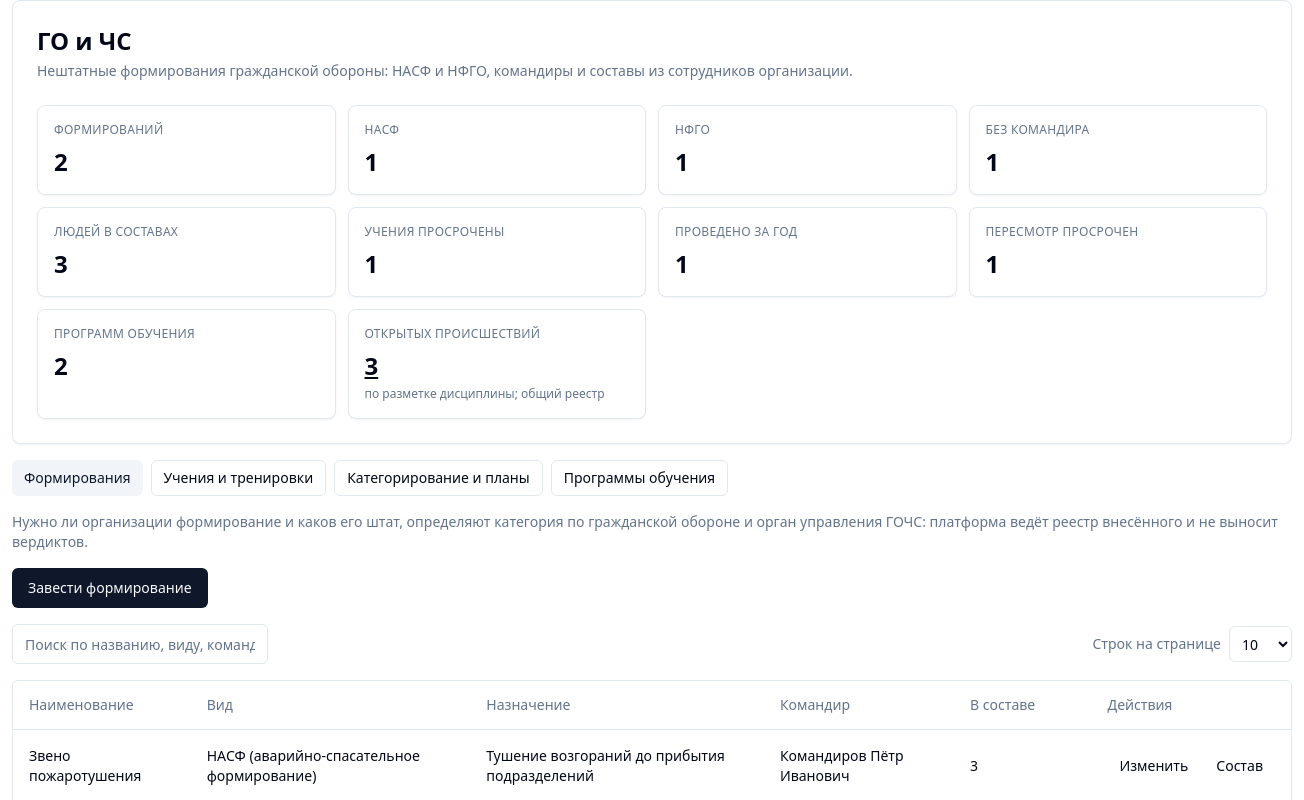
Test: CivilDefensePage › категорирование открывается третьей секцией
What coordinates should you click on to do the following:
click the button "Категорирование и планы"
I would click on:
 (438, 478)
Its box is x1=334 y1=460 x2=543 y2=496.
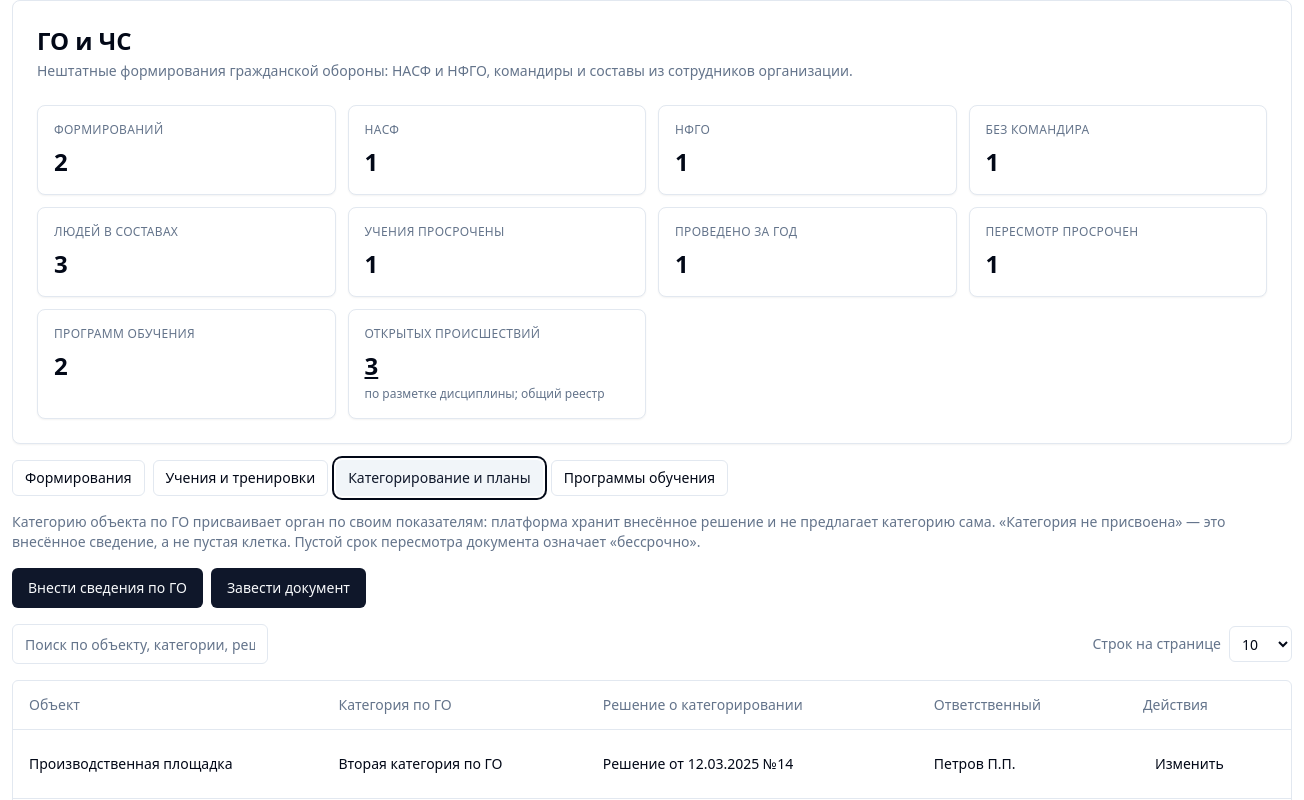
expect the text "Вторая категория по ГО" is shown: met, box x1=322 y1=729 x2=587 y2=798
expect the text "не предлагает категорию сама" is shown: met, box x1=12 y1=512 x2=1226 y2=551
